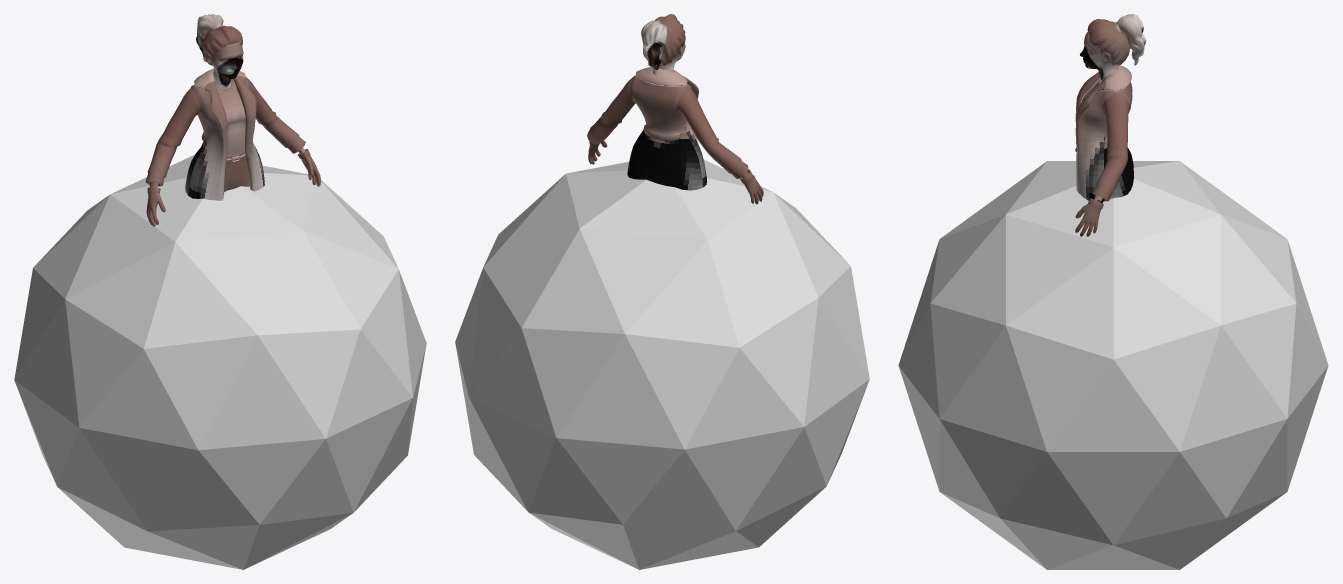
File: female.fbx
The picture shows the model from 3 angles, left to right: view 1: azimuth 30°, elevation 25°; view 2: azimuth 150°, elevation 25°; view 3: azimuth 270°, elevation 25°; orthographic projection. The views are drawn at different scales.
Parts seen in each view (by area): view 1: Icosphere, Wolf3D_Outfit_Top, Wolf3D_Hair, Wolf3D_Head, Wolf3D_Outfit_Bottom; view 2: Icosphere, Wolf3D_Outfit_Top, Wolf3D_Hair; view 3: Icosphere, Wolf3D_Outfit_Top, Wolf3D_Hair, Wolf3D_Head.
Part boxes in pixels (box(x1,y1,x2,y2)): Icosphere: box(14, 154, 426, 569); Wolf3D_Outfit_Top: box(145, 68, 320, 226); Wolf3D_Hair: box(196, 14, 242, 61); Wolf3D_Head: box(205, 42, 243, 89); Wolf3D_Outfit_Bottom: box(224, 151, 249, 192); Icosphere: box(455, 160, 869, 569); Wolf3D_Outfit_Top: box(587, 67, 763, 204); Wolf3D_Hair: box(641, 14, 685, 74); Icosphere: box(898, 161, 1328, 569); Wolf3D_Outfit_Top: box(1075, 65, 1133, 236); Wolf3D_Hair: box(1087, 14, 1146, 65); Wolf3D_Head: box(1080, 32, 1118, 80).
Bounding box in the file's own units: 190 × 279 × 200.
8 materials, 8 textured.
